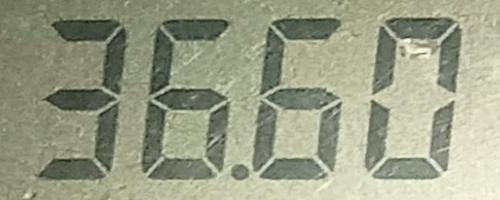.: (228, 162, 251, 182)
